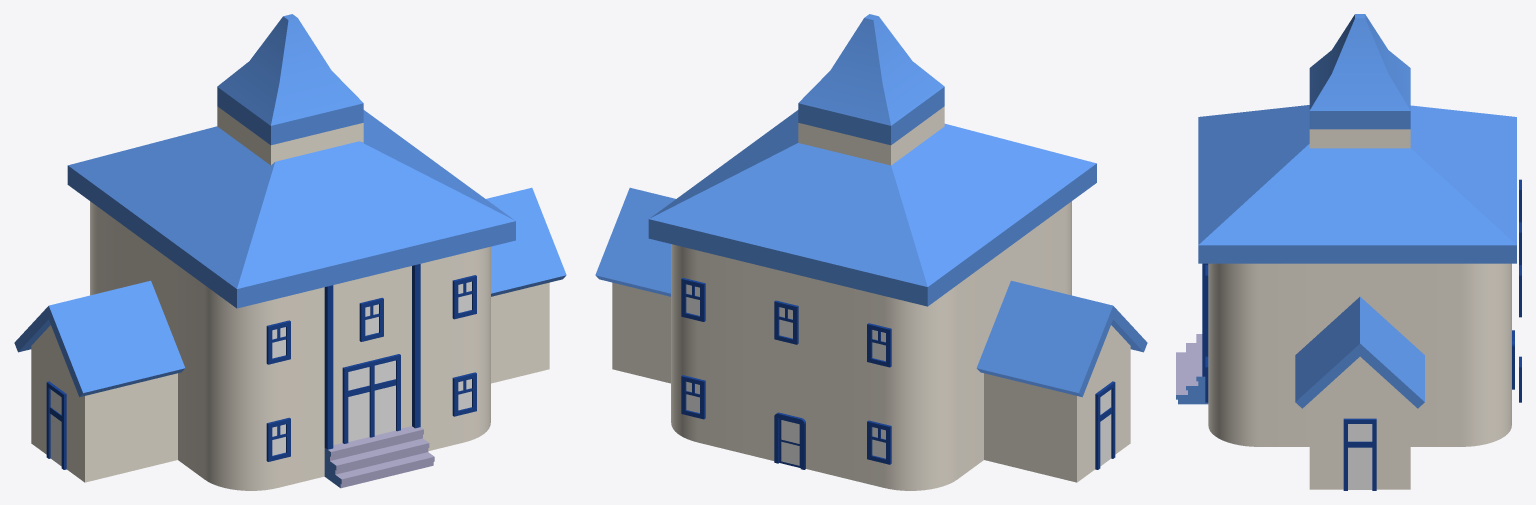
The model's file is M1_CityHall.fbx.
3 views of the same model, side by side, from view 1: azimuth 30°, elevation 25°; view 2: azimuth 150°, elevation 25°; view 3: azimuth 270°, elevation 25° (orthographic). The views are drawn at different scales.
Parts seen in each view (by area): view 1: mergedBlocks; view 2: mergedBlocks; view 3: mergedBlocks.
Part boxes in pixels (bbox=[...]): mergedBlocks: bbox=[14, 14, 566, 490]; mergedBlocks: bbox=[595, 14, 1147, 490]; mergedBlocks: bbox=[1176, 14, 1521, 490].
Size of the model in its own units: 52 by 40 by 34.2.
